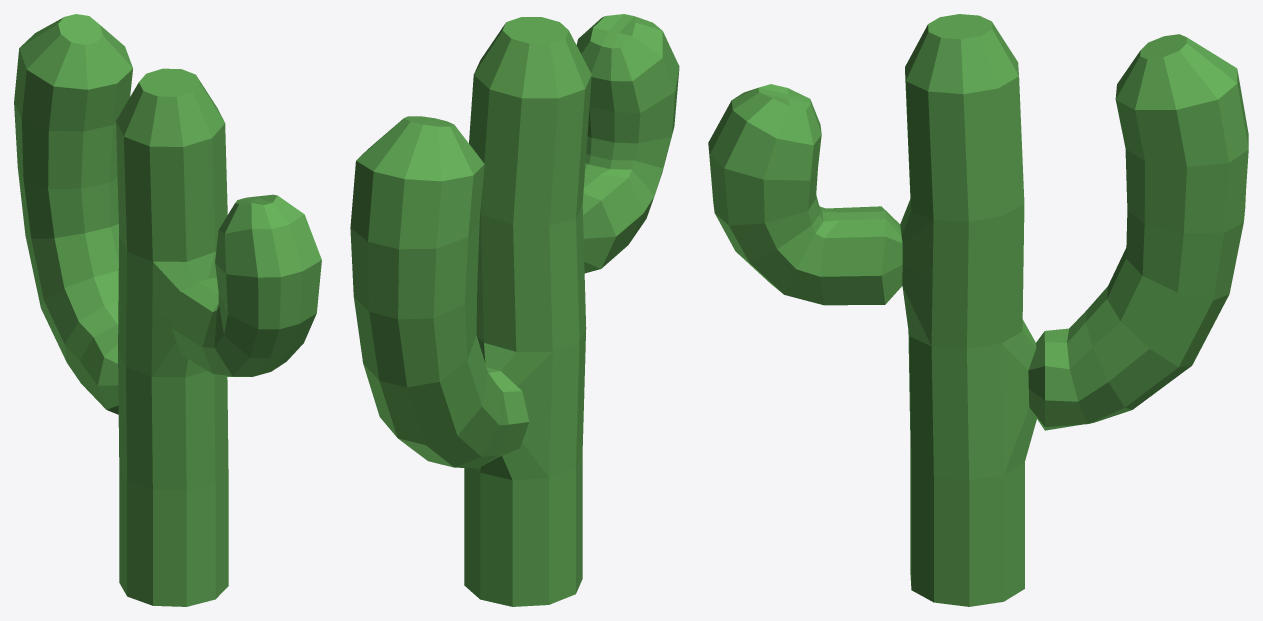
Rendered from Cactus02.fbx.
3 renders of one model, left to right at view 1: azimuth 30°, elevation 25°; view 2: azimuth 150°, elevation 25°; view 3: azimuth 270°, elevation 25°, orthographic. The views are drawn at different scales.
Visible parts, largest first — view 1: Cylinder; view 2: Cylinder; view 3: Cylinder.
Part boxes in pixels (x1,y1,x2,y2): Cylinder: (14,14,321,606); Cylinder: (350,14,679,606); Cylinder: (708,14,1248,606).
Bounding box in the file's own units: 16.88 × 81.3 × 72.05.
